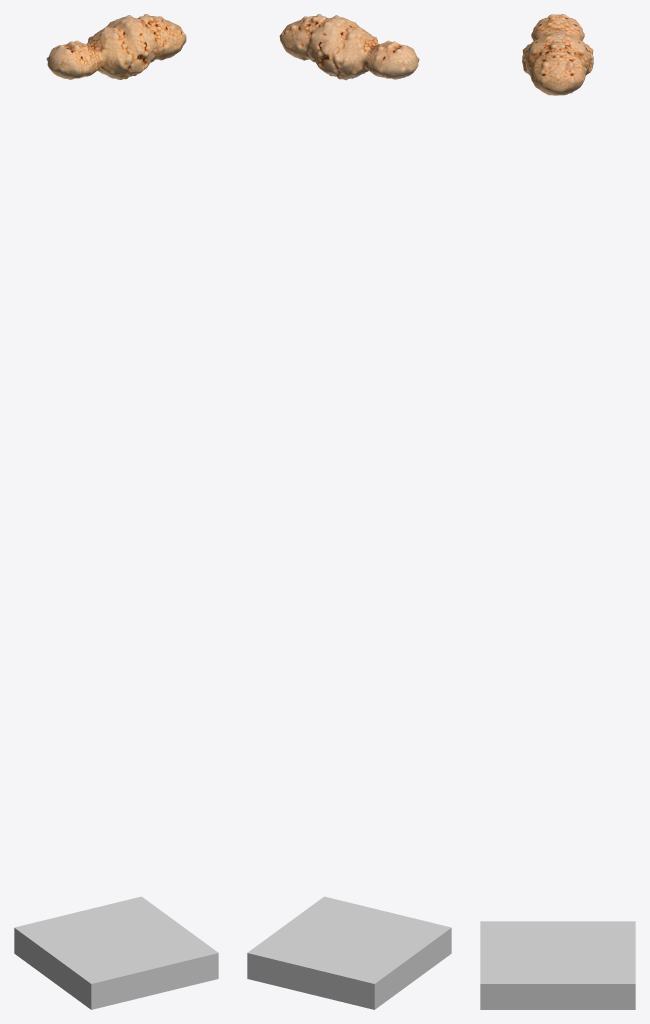
The model's file is cloud.glb.
3 views of the same model, side by side, from view 1: azimuth 30°, elevation 25°; view 2: azimuth 150°, elevation 25°; view 3: azimuth 270°, elevation 25° (orthographic).
Parts seen in each view (by area): view 1: cloud; view 2: cloud; view 3: cloud.
Boxes of the visible parts, box(x1,y1,x2,y2) form: cloud: box(14, 14, 218, 1009); cloud: box(247, 14, 451, 1009); cloud: box(480, 14, 635, 1009).
Size of the model in its own units: 0.2853 by 1.95 by 0.2895.
Materials: 2 (1 with a texture image).
